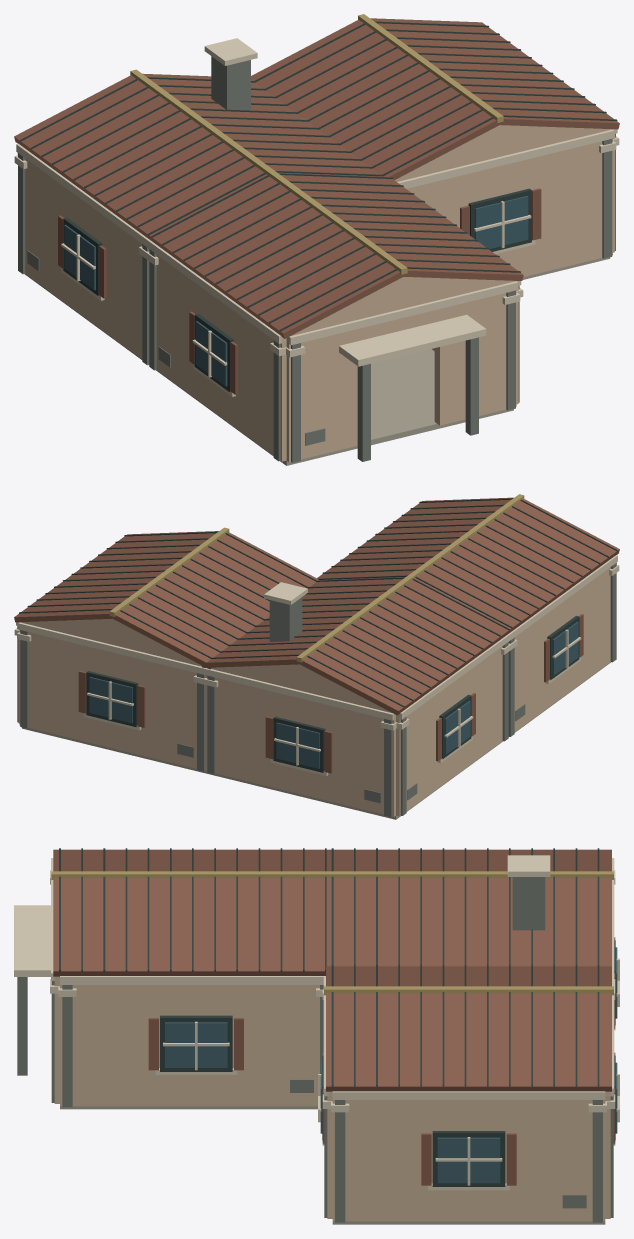
The model's file is FSA_ENV_Protected_02_CornerVilla.glb.
3 views of the same model, one above another, from view 1: azimuth 30°, elevation 25°; view 2: azimuth 150°, elevation 25°; view 3: azimuth 270°, elevation 25° (orthographic). The views are drawn at different scales.
Parts seen in each view (by area): view 1: PitchedRoof_272, PitchedRoof_41, PitchedRoof_162, PitchedRoof_176, PitchedRoof_286, Wall_112, PitchedRoof_55, Wall_229, Wall_230, Floor_228, Wall_256, Wall_25 (+34 smaller); view 2: PitchedRoof_41, PitchedRoof_272, PitchedRoof_162, PitchedRoof_176, PitchedRoof_286, Wall_7, Wall_146, PitchedRoof_55, Wall_8, Wall_145, Wall_24, Wall_256 (+37 smaller); view 3: PitchedRoof_176, PitchedRoof_286, PitchedRoof_55, Wall_129, Wall_239, Wall_128, Wall_238, PitchedRoof_272, PitchedRoof_162, PitchedRoof_41, Glass_138, PorchCanopy_339 (+27 smaller).
Part boxes in pixels (x1,y1,x2,y2): PitchedRoof_272: (145,171,403,338); PitchedRoof_41: (14,75,261,241); PitchedRoof_162: (251,19,500,179); PitchedRoof_176: (370,18,619,129); PitchedRoof_286: (274,170,523,280); Wall_112: (526,138,612,276); PitchedRoof_55: (142,73,378,173); Wall_229: (286,327,365,462); Wall_230: (434,290,516,425); Floor_228: (156,349,513,465); Wall_256: (232,310,286,461); Wall_25: (100,213,142,358); PitchedRoof_41: (299,578,511,715); PitchedRoof_272: (411,499,619,635); PitchedRoof_162: (112,532,318,669); PitchedRoof_176: (14,531,218,622); PitchedRoof_286: (317,497,513,578); Wall_7: (322,704,395,816); Wall_146: (19,630,90,742); PitchedRoof_55: (201,577,405,667); Wall_8: (207,676,277,788); Wall_145: (135,658,206,771); Wall_24: (396,691,440,816); Wall_256: (574,567,610,687); PitchedRoof_176: (326,993,611,1091); PitchedRoof_286: (53,878,339,976); PitchedRoof_55: (326,878,611,966); Wall_129: (332,1100,436,1221); Wall_239: (60,985,163,1106); Wall_128: (501,1100,605,1221); Wall_238: (228,985,319,1106); PitchedRoof_272: (53,849,339,871); PitchedRoof_162: (326,966,611,986); PitchedRoof_41: (326,849,611,871); Glass_138: (437,1137,500,1183); PorchCanopy_339: (14,905,50,976).
Size of the model in its own units: 16.86 by 7.03 by 17.78.
